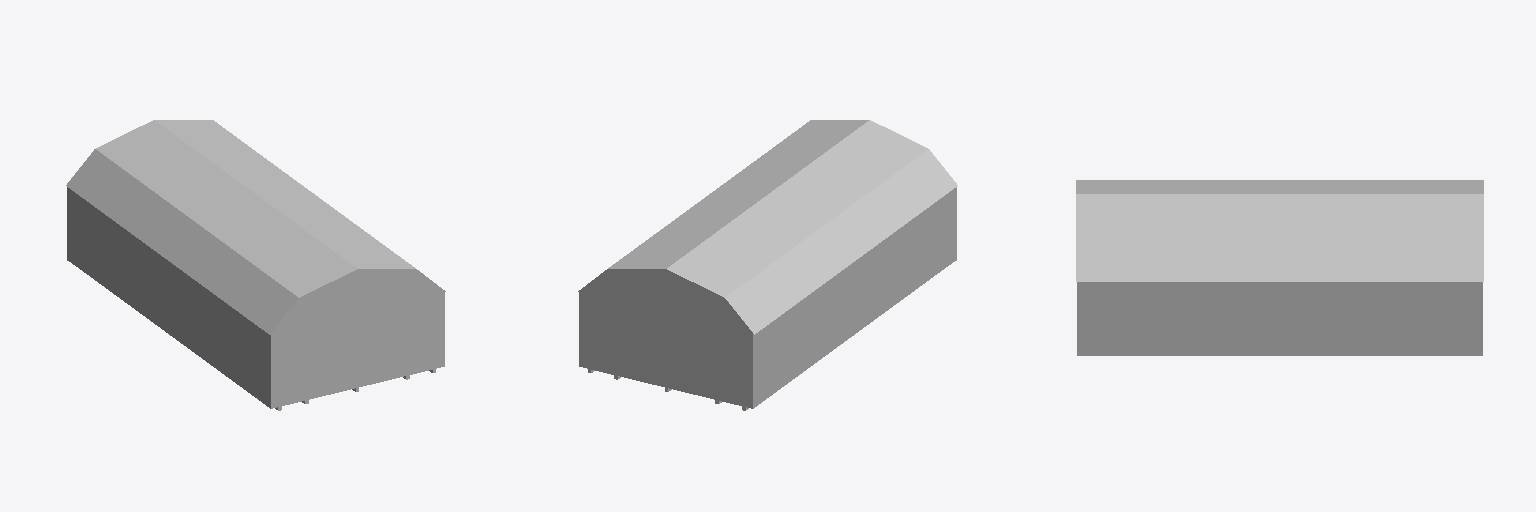
The model's file is Dutch Barn_14x28.obj.
The picture shows the model from 3 angles: view 1: azimuth 30°, elevation 25°; view 2: azimuth 150°, elevation 25°; view 3: azimuth 270°, elevation 25°; orthographic projection.
Parts seen in each view (by area): view 1: Dutch Barn_14x28.obj; view 2: Dutch Barn_14x28.obj; view 3: Dutch Barn_14x28.obj.
Part boxes in pixels (x1,y1,x2,y2): Dutch Barn_14x28.obj: (66,120,445,410); Dutch Barn_14x28.obj: (578,120,957,410); Dutch Barn_14x28.obj: (1076,180,1483,355).
Bounding box in the file's own units: 4.91 × 3.27 × 9.8.